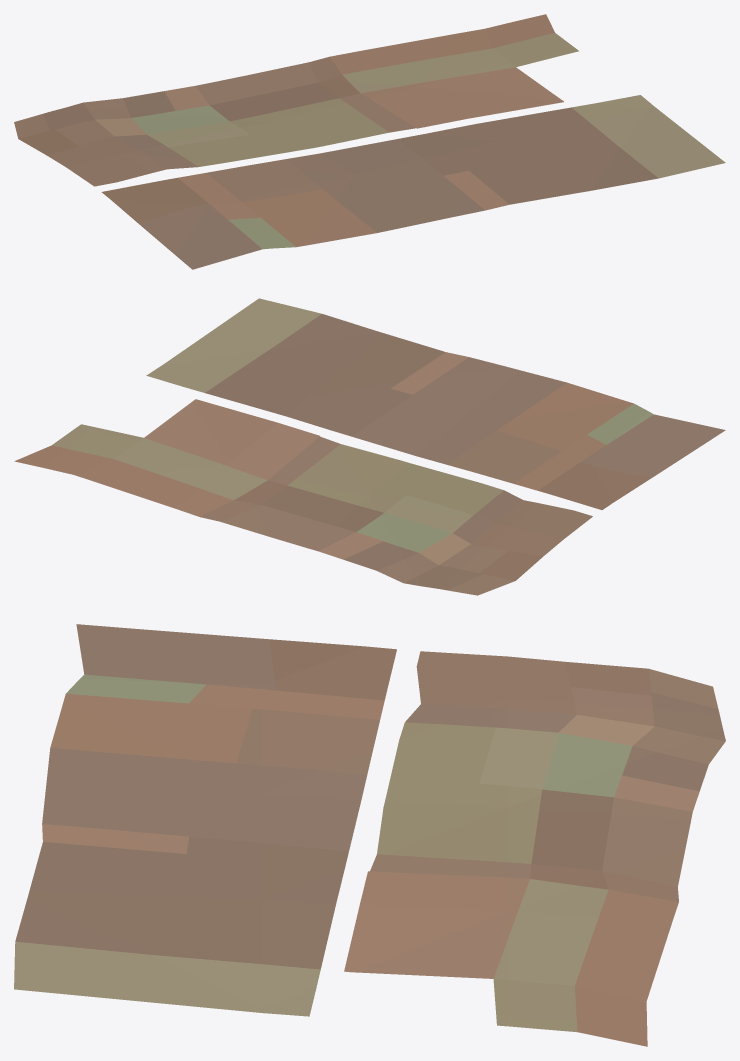
The model's file is farm_-8_3_soil.glb.
3 views of the same model, one above another, from view 1: azimuth 30°, elevation 25°; view 2: azimuth 150°, elevation 25°; view 3: azimuth 270°, elevation 25° (orthographic). The views are drawn at different scales.
Parts seen in each view (by area): view 1: geometry_0; view 2: geometry_0; view 3: geometry_0.
Part boxes in pixels (left/top/right/bottom): geometry_0: left=14, top=14, right=725, bottom=269; geometry_0: left=14, top=298, right=725, bottom=595; geometry_0: left=14, top=624, right=725, bottom=1046.
Size of the model in its own units: 300 by 13.38 by 232.
